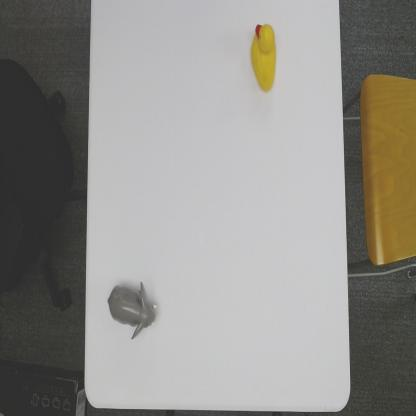Duck: (249, 20, 277, 94)
Elephant: (107, 280, 158, 341)
